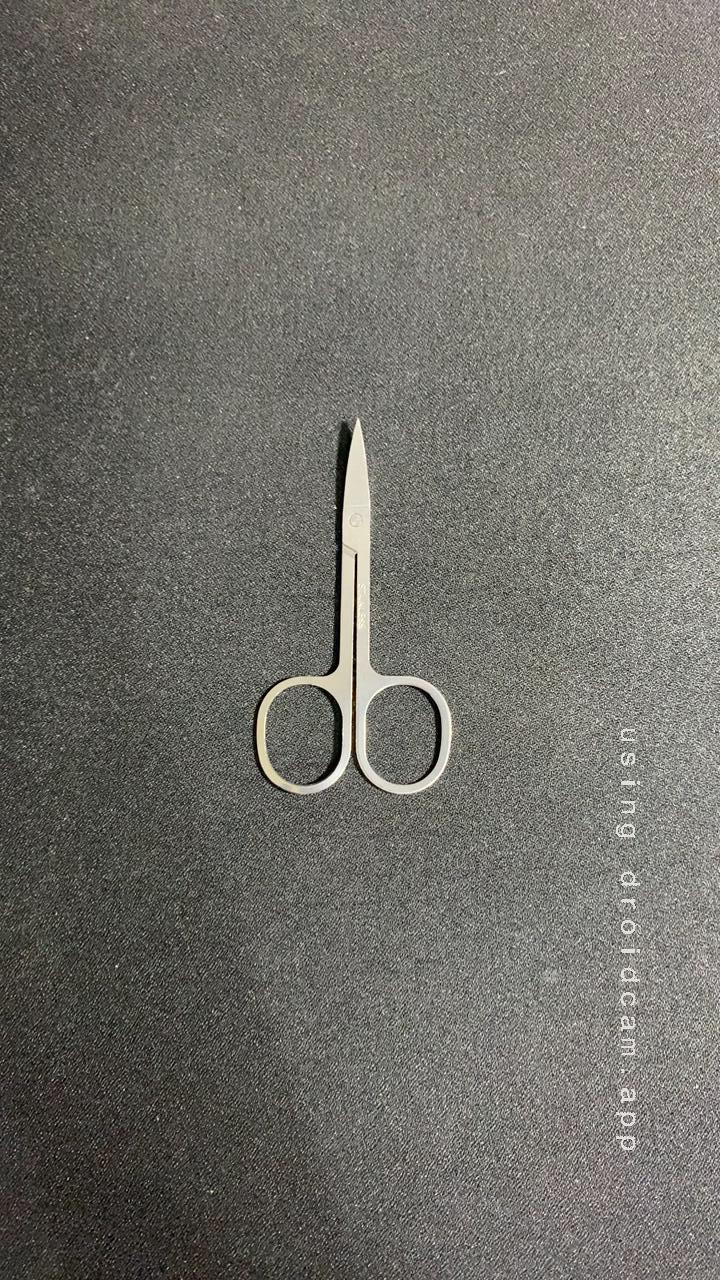scissor: (222, 412, 472, 807)
